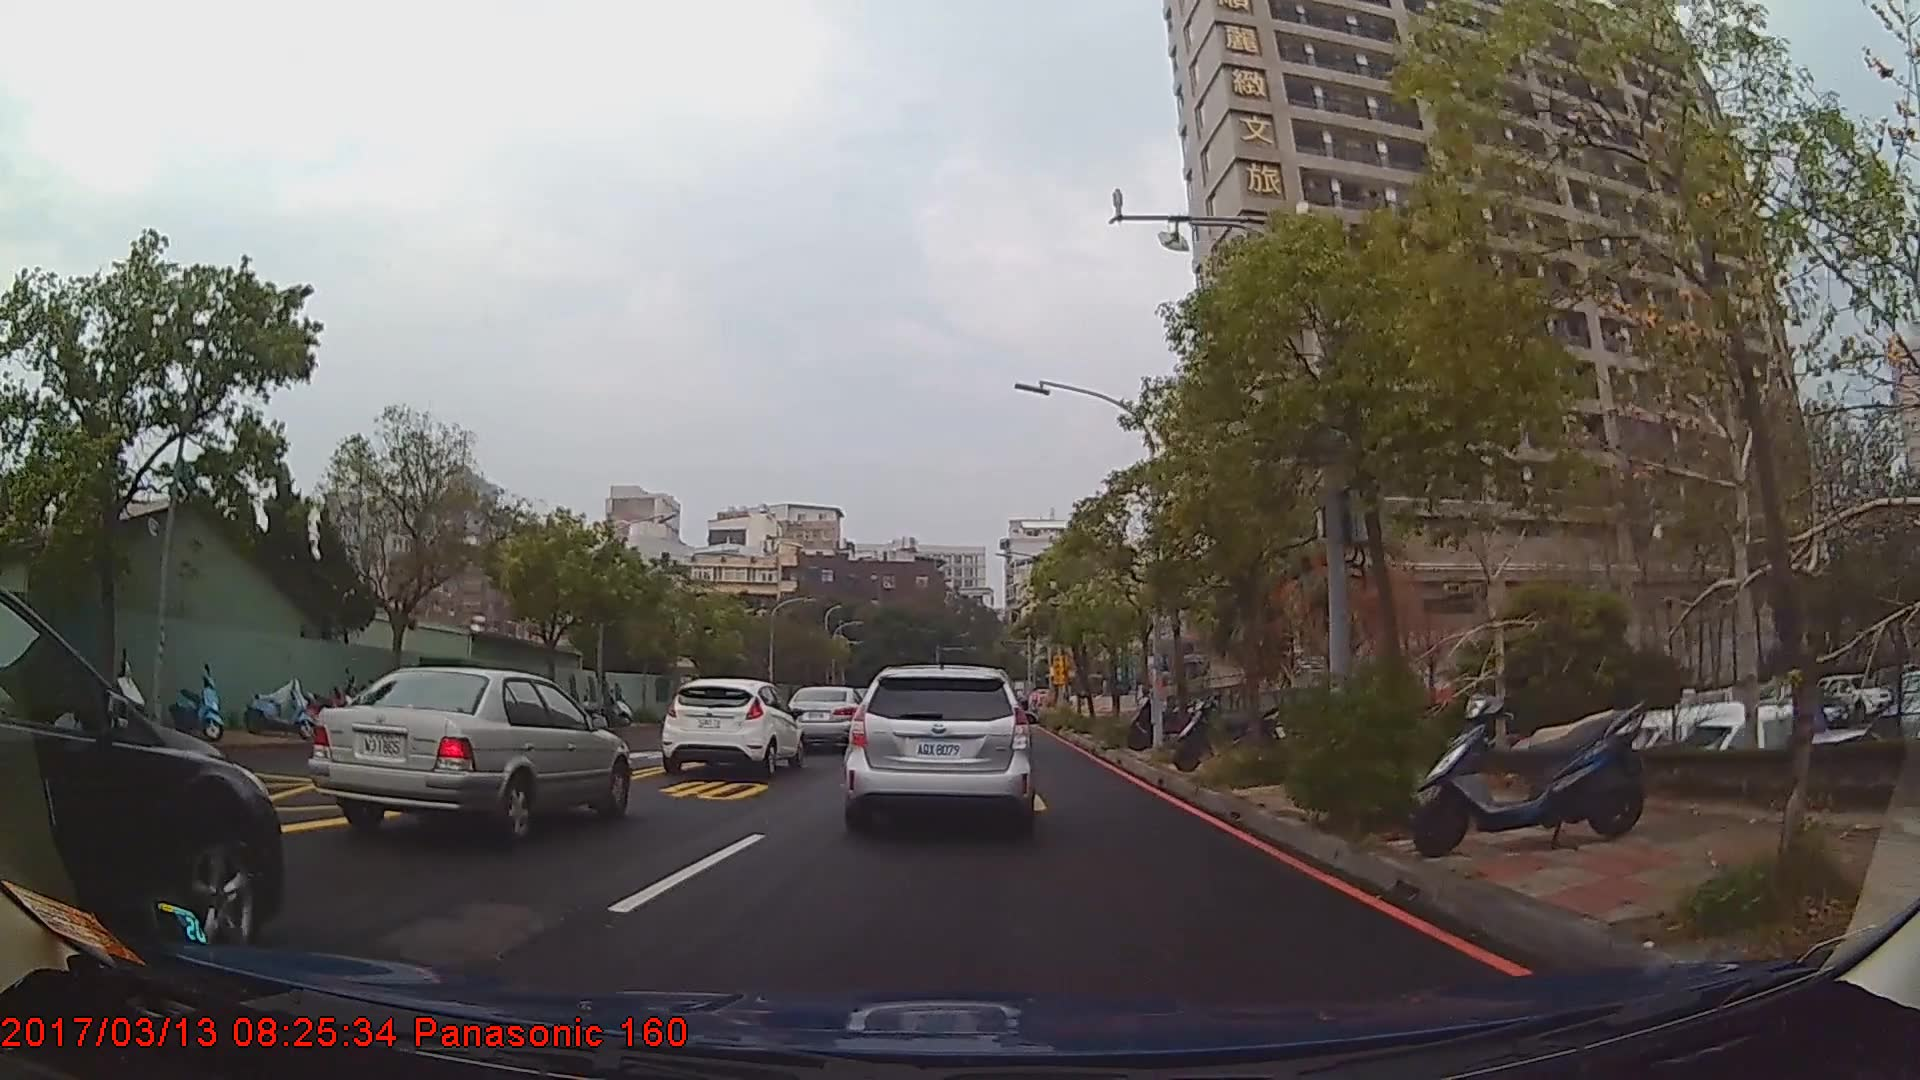vehicle: (0, 584, 284, 965), (306, 667, 632, 847), (841, 665, 1031, 828), (662, 678, 803, 775), (785, 684, 869, 749)
